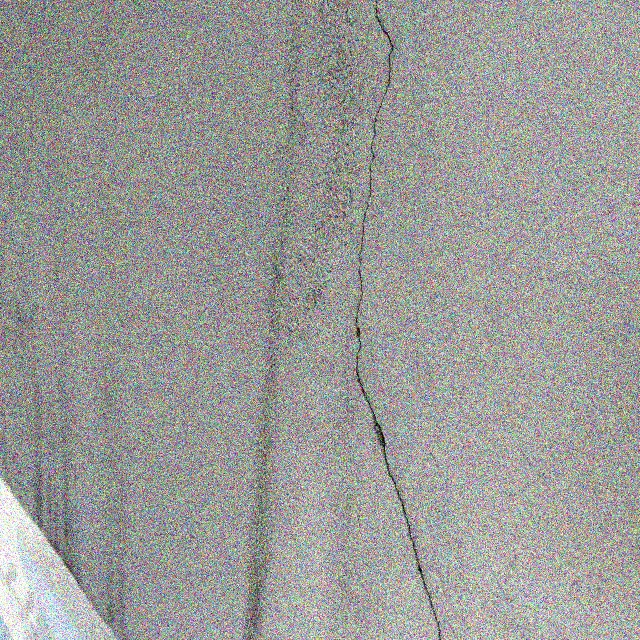SurfaceCrack: (201, 1, 336, 640), (313, 1, 448, 639)
